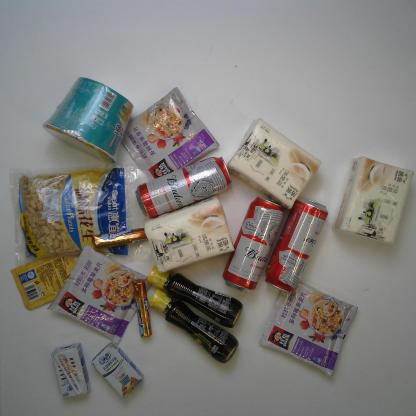Alcohol: (264, 196, 329, 294), (135, 156, 233, 220), (222, 195, 285, 294)
Candy: (90, 226, 150, 250), (131, 278, 153, 338)
Dried Fruit: (7, 160, 144, 268)
Instant Drink: (46, 244, 154, 344), (258, 280, 358, 378), (120, 86, 220, 183)
Instant Noodles: (42, 77, 134, 164)
Milk: (91, 340, 145, 398), (51, 342, 91, 398)
Seasoner: (147, 288, 239, 364), (145, 264, 244, 329), (10, 249, 78, 310)
Tissue: (226, 118, 322, 209), (334, 155, 414, 246), (144, 195, 235, 273)
